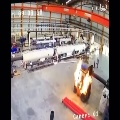fire: (74, 59, 92, 95)
